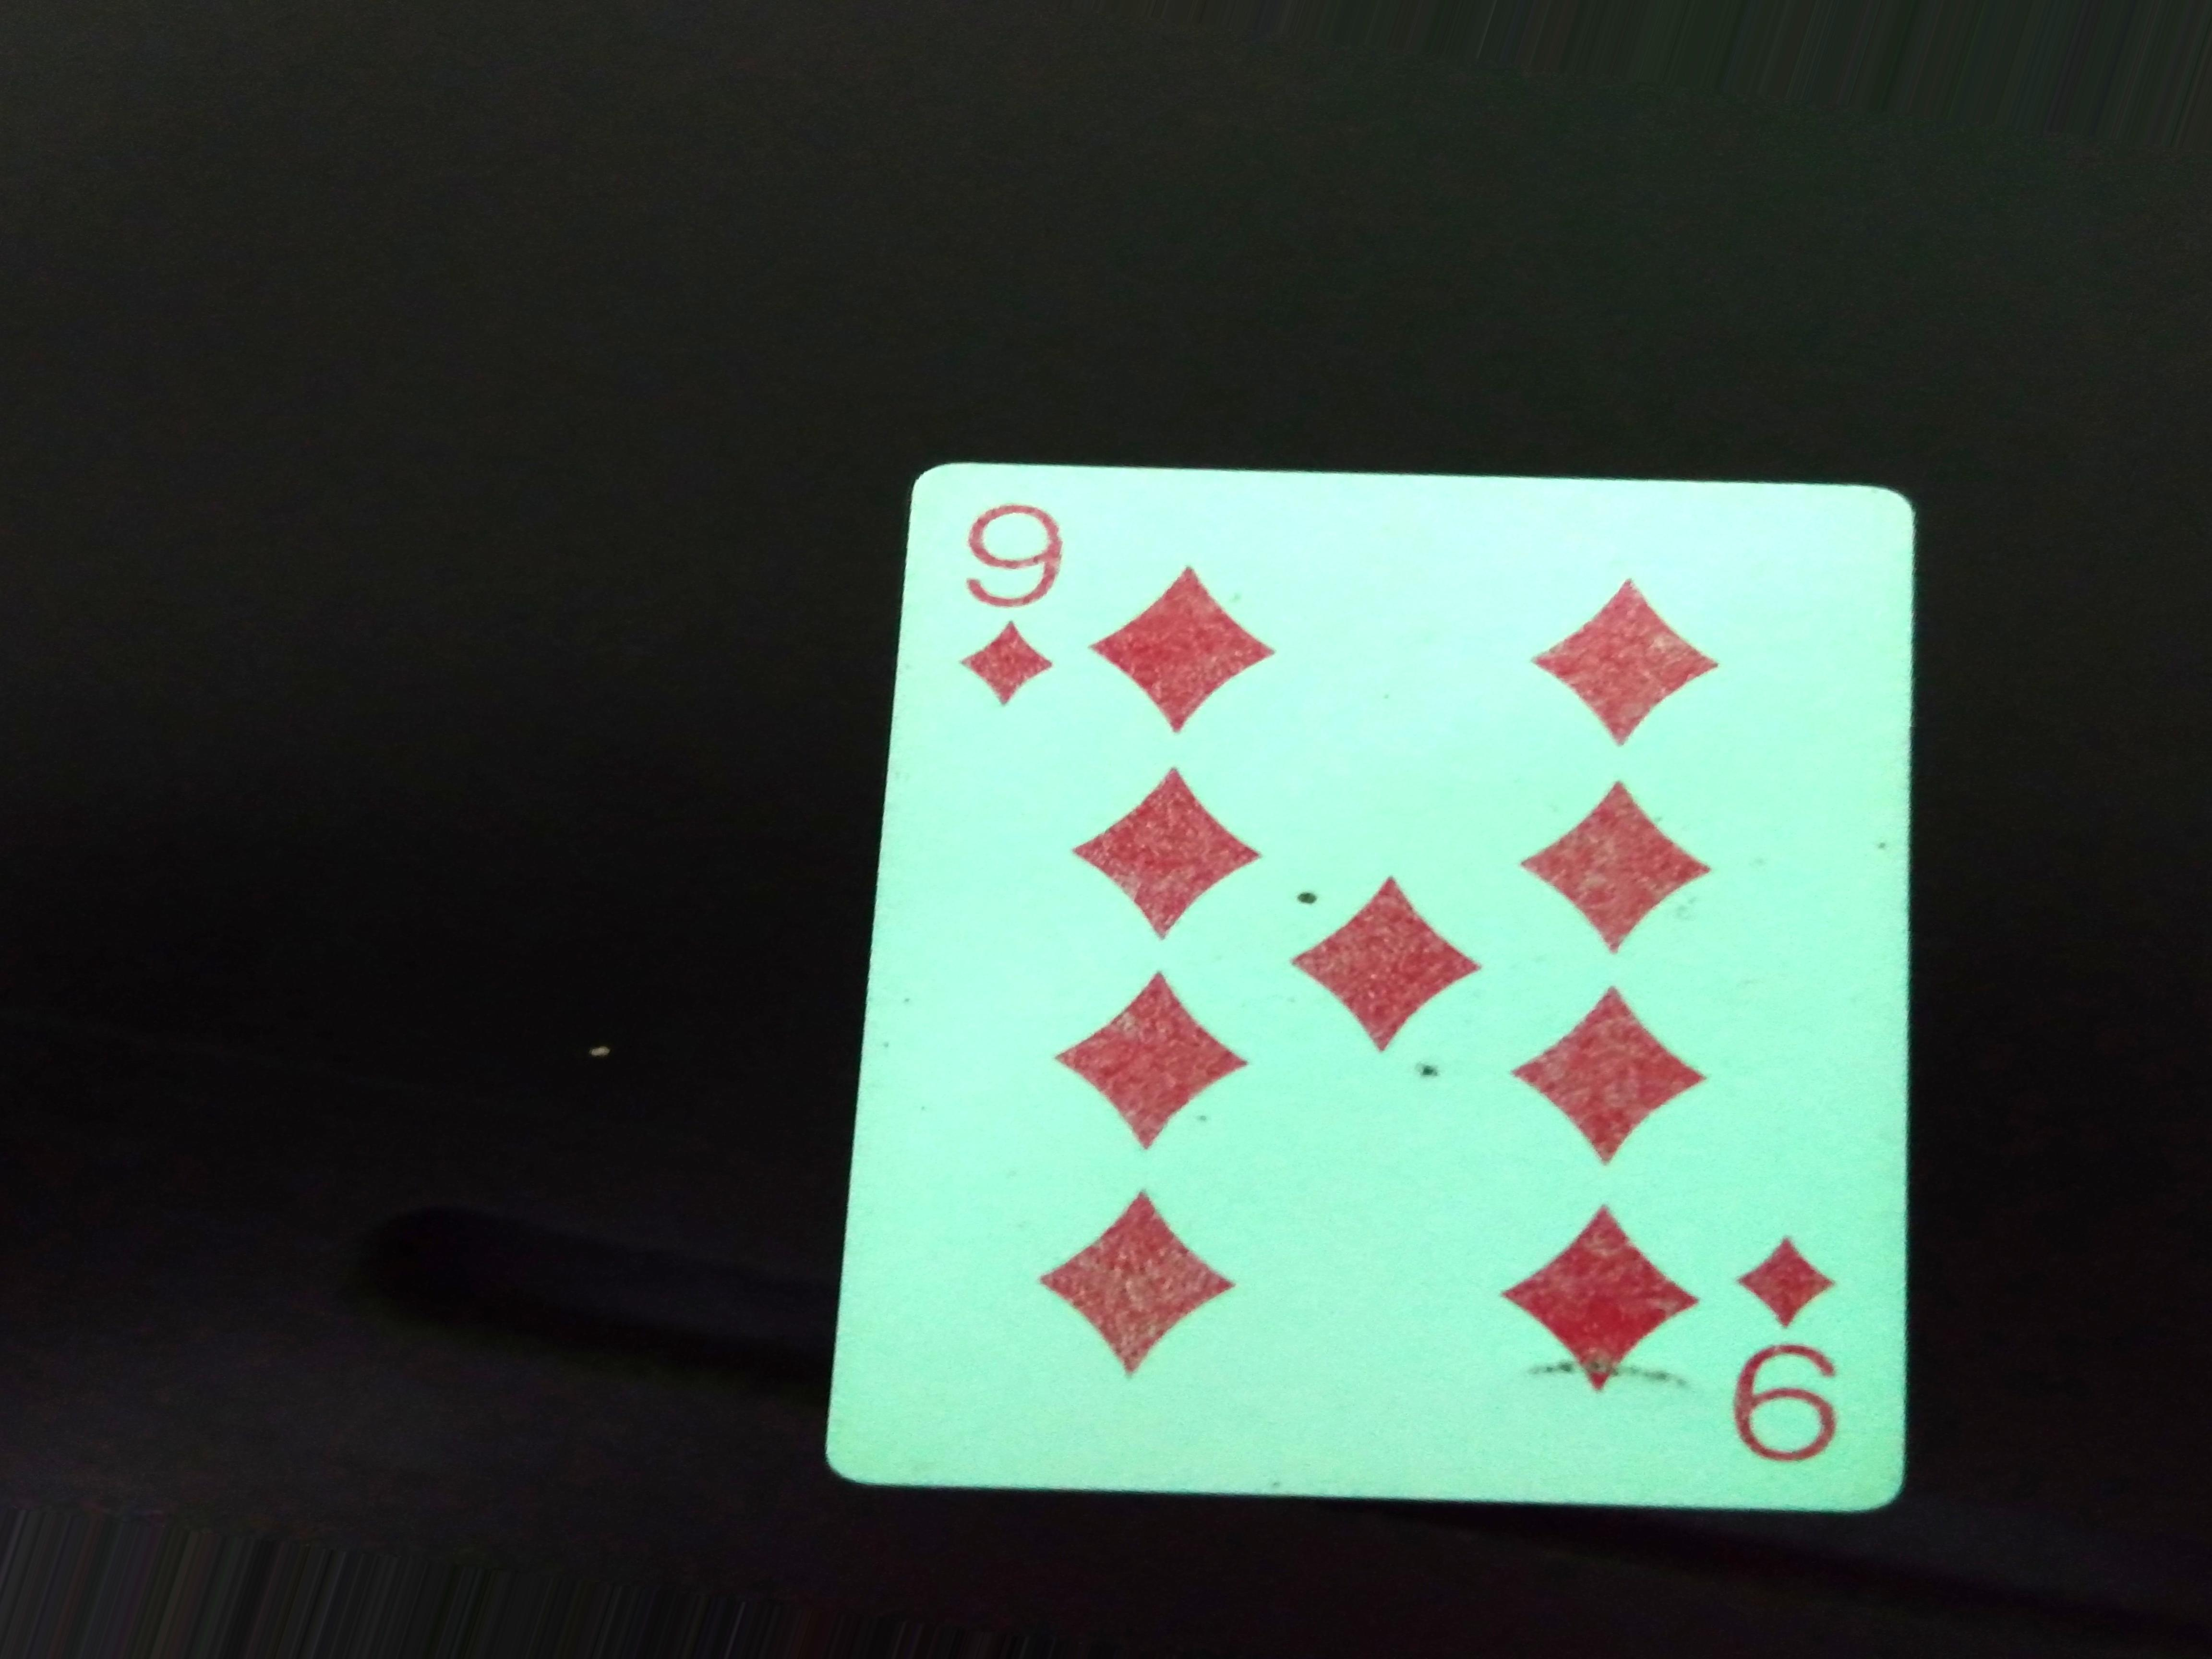9D: (1721, 1232, 1871, 1513)
